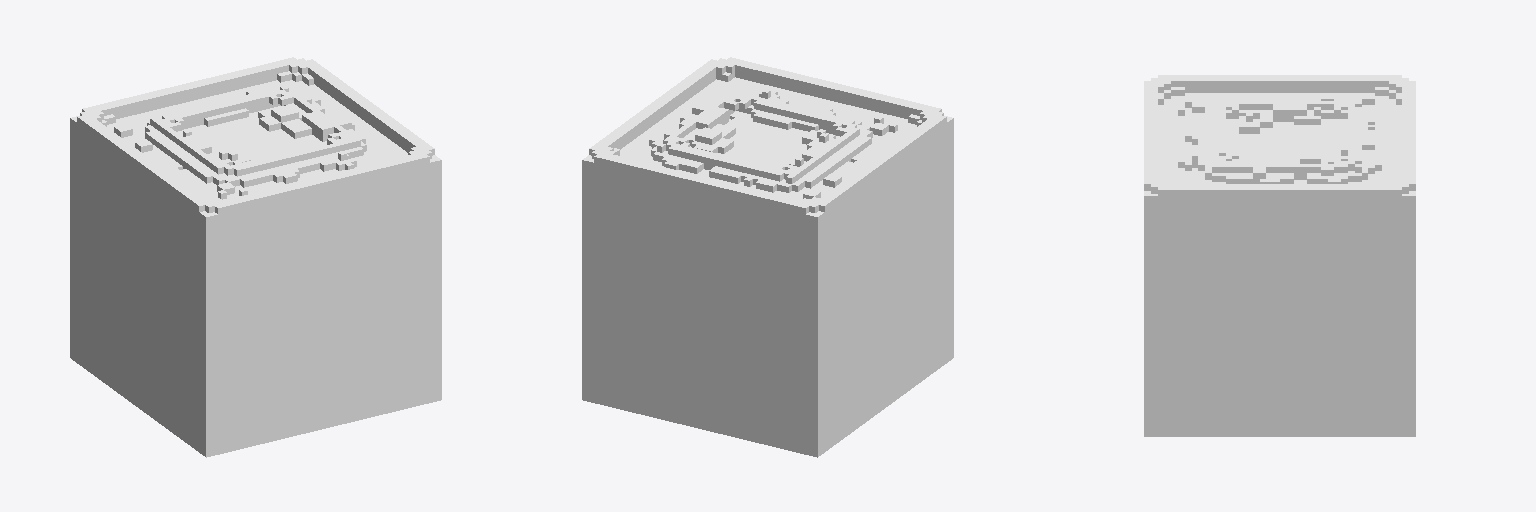
File: Grass_Cen.obj
3 renders of one model, left to right at view 1: azimuth 30°, elevation 25°; view 2: azimuth 150°, elevation 25°; view 3: azimuth 270°, elevation 25°, orthographic.
Parts seen in each view (by area): view 1: Grass_Cen; view 2: Grass_Cen; view 3: Grass_Cen.
Part boxes in pixels (x1,y1,x2,y2): Grass_Cen: (70, 57, 441, 457); Grass_Cen: (582, 57, 953, 457); Grass_Cen: (1144, 75, 1415, 436).
Size of the model in its own units: 40 by 40 by 40.